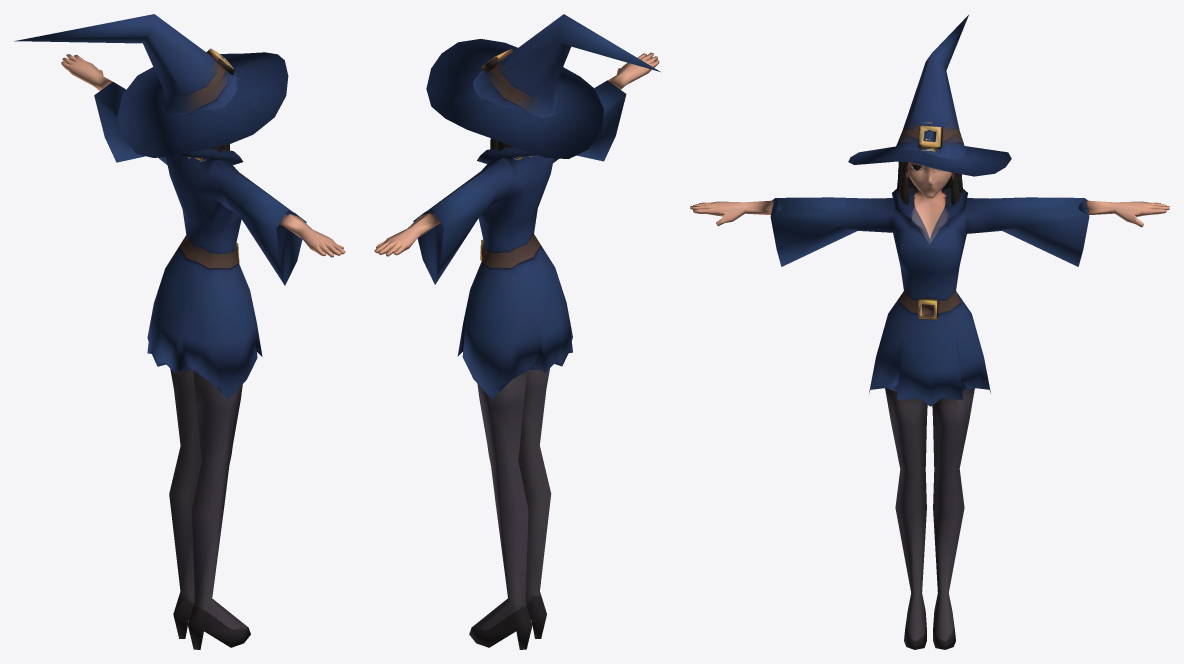
Rendered from AH_CHR_Witch_Blue_TPose_v01.glb.
3 renders of one model, left to right at view 1: azimuth 30°, elevation 25°; view 2: azimuth 150°, elevation 25°; view 3: azimuth 270°, elevation 25°, orthographic. The views are drawn at different scales.
Visible parts, largest first — view 1: tripo_node_a49bb10b-0d34-4b34-8ef7-3a3897c6880b; view 2: tripo_node_a49bb10b-0d34-4b34-8ef7-3a3897c6880b; view 3: tripo_node_a49bb10b-0d34-4b34-8ef7-3a3897c6880b.
Part boxes in pixels (x1,y1,x2,y2): tripo_node_a49bb10b-0d34-4b34-8ef7-3a3897c6880b: [14, 14, 345, 649]; tripo_node_a49bb10b-0d34-4b34-8ef7-3a3897c6880b: [374, 14, 660, 649]; tripo_node_a49bb10b-0d34-4b34-8ef7-3a3897c6880b: [690, 15, 1169, 649].
Bounding box in the file's own units: 0.6753 × 1.7 × 1.31.
1 material, 1 textured.
